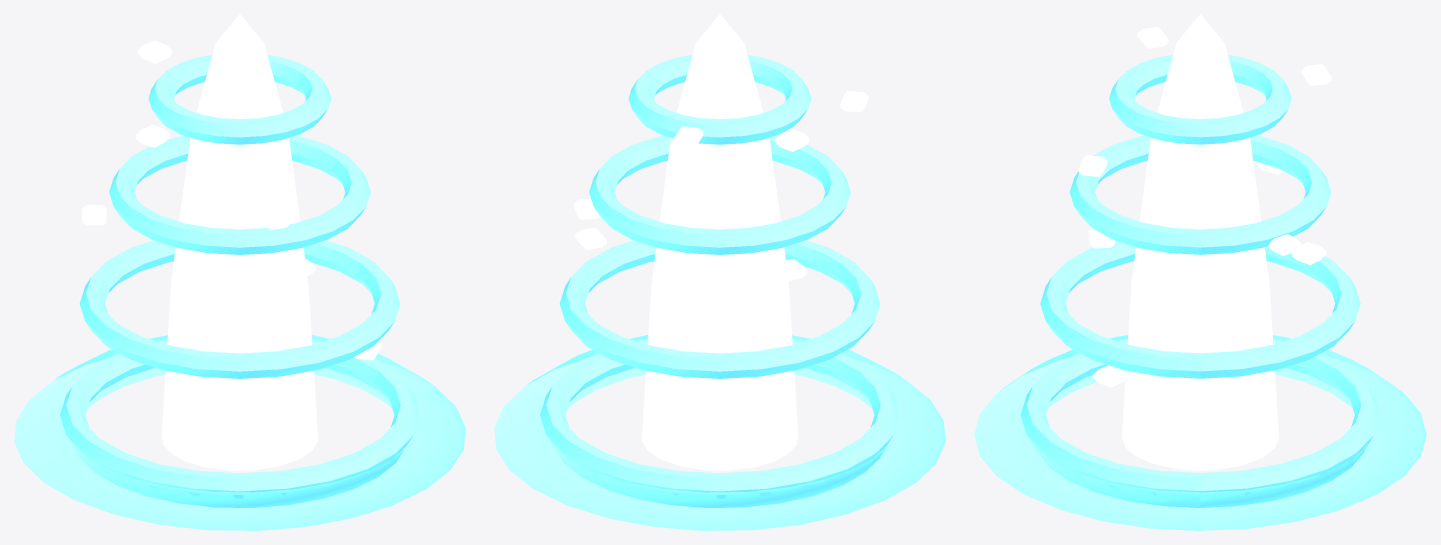
File: vfx-mesh-library-healing-column-630cdb32__21897.glb
3 renders of one model, left to right at view 1: azimuth 30°, elevation 25°; view 2: azimuth 150°, elevation 25°; view 3: azimuth 270°, elevation 25°, orthographic.
Parts seen in each view (by area): view 1: healing-column; view 2: healing-column; view 3: healing-column.
Boxes of the visible parts, x1,y1,x2,y2 form: healing-column: [14, 14, 465, 530]; healing-column: [494, 14, 945, 530]; healing-column: [974, 14, 1426, 530].
Size of the model in its own units: 0.92 by 0.95 by 0.92.
